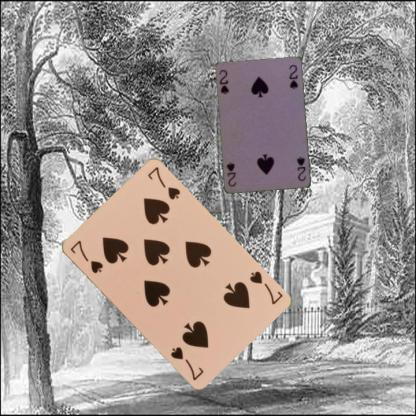2s: (217, 67, 230, 96), (295, 154, 307, 183)
7s: (247, 268, 284, 306), (67, 238, 104, 274)
